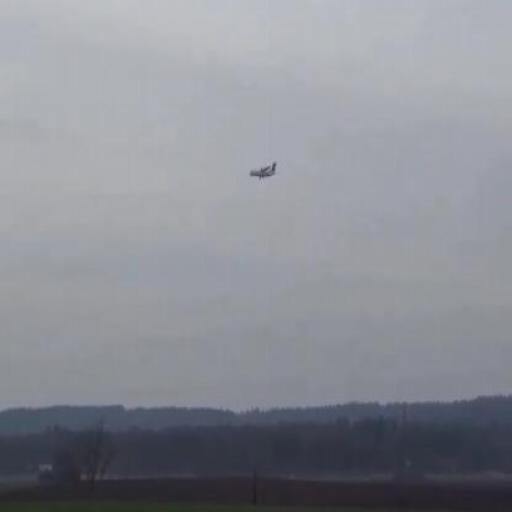aircraft: (250, 161, 276, 177)
